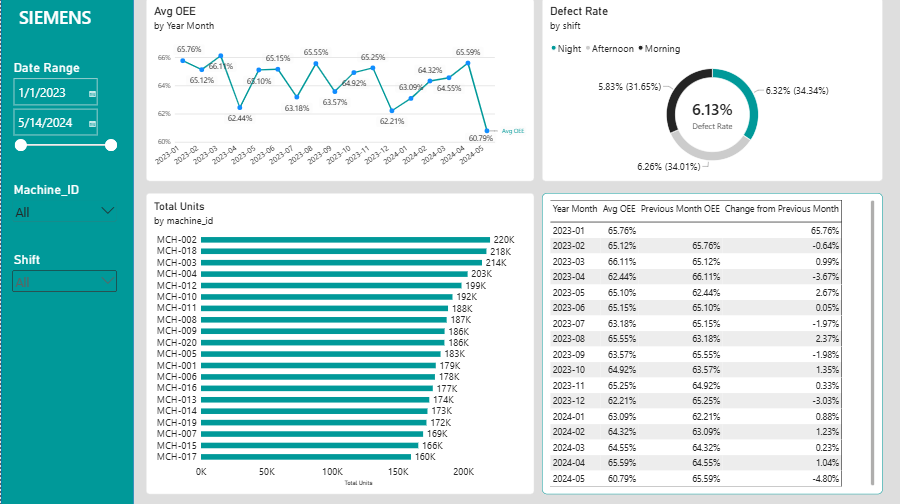

The dashboard page shown, as its layout file describes it:
{"tool":"powerbi","page":{"name":"Analysis_1","canvas":[1920,1080],"ordinal":1},"visuals":[{"type":"shape","box":[0,0,282,1080],"z":0},{"type":"slicer","fields":{"Values":["Calendar.Date"]},"box":[19.3,130.9,231.7,227.4],"z":1},{"type":"slicer","fields":{"Values":["ManufacturingOEE.machine_id"]},"box":[19.3,390.4,231.7,115.8],"z":2},{"type":"slicer","fields":{"Values":["ManufacturingOEE.shift"]},"box":[19.3,540.6,231.7,130.9],"z":3},{"type":"lineChart","fields":{"Category":["Calendar.Year Month"],"Y":["ManufacturingOEE.Avg OEE"]},"box":[308.9,0,825.9,390.4],"z":4},{"type":"donutChart","fields":{"Category":["ManufacturingOEE.shift"],"Y":["ManufacturingOEE.Defect Rate"]},"box":[1152,0,725.1,390.4],"z":5},{"type":"barChart","fields":{"Category":["ManufacturingOEE.machine_id"],"Y":["ManufacturingOEE.Total Units"]},"box":[308.9,414,825.9,641.4],"z":6},{"type":"tableEx","fields":{"Values":["Calendar.Year Month","ManufacturingOEE.Avg OEE","ManufacturingOEE.Previous Month OEE","ManufacturingOEE.Change from Previous Month"]},"box":[1152,414,725.1,641.4],"z":7},{"type":"textbox","box":[38.6,15,175.9,88],"z":8}]}

Visuals, with their boxes in screenshot pixels (x1, y1, x2, y2), scaled from the page's 1920x1080 canvas onto the 900x504 screenshot:
shape: rect(0, 0, 132, 503)
slicer - Calendar.Date: rect(9, 61, 118, 167)
slicer - ManufacturingOEE.machine_id: rect(9, 182, 118, 236)
slicer - ManufacturingOEE.shift: rect(9, 252, 118, 313)
lineChart - Calendar.Year Month x ManufacturingOEE.Avg OEE: rect(145, 0, 532, 182)
donutChart - ManufacturingOEE.shift x ManufacturingOEE.Defect Rate: rect(540, 0, 880, 182)
barChart - ManufacturingOEE.machine_id x ManufacturingOEE.Total Units: rect(145, 193, 532, 493)
tableEx - Calendar.Year Month x ManufacturingOEE.Avg OEE: rect(540, 193, 880, 493)
textbox: rect(18, 7, 101, 48)
